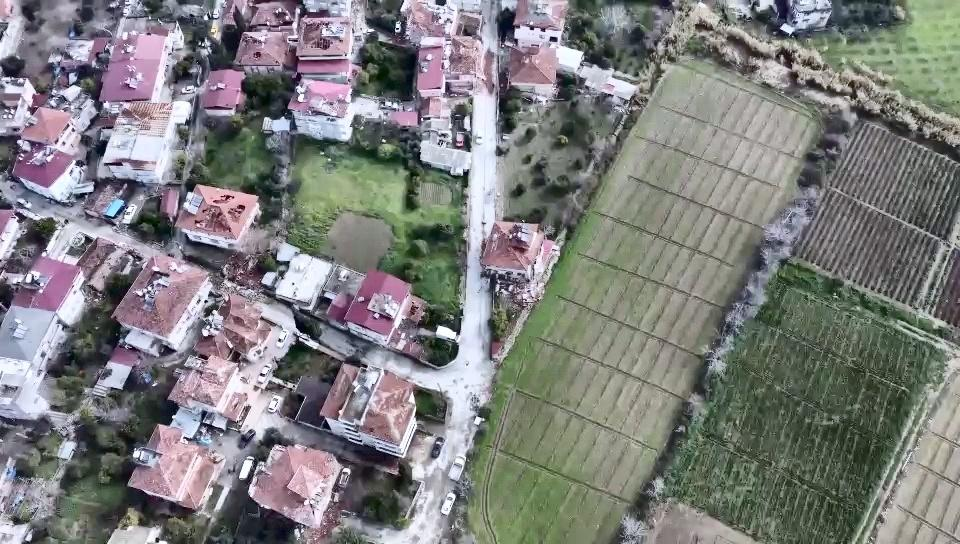kapali: (131, 240, 287, 324), (473, 31, 498, 108)
